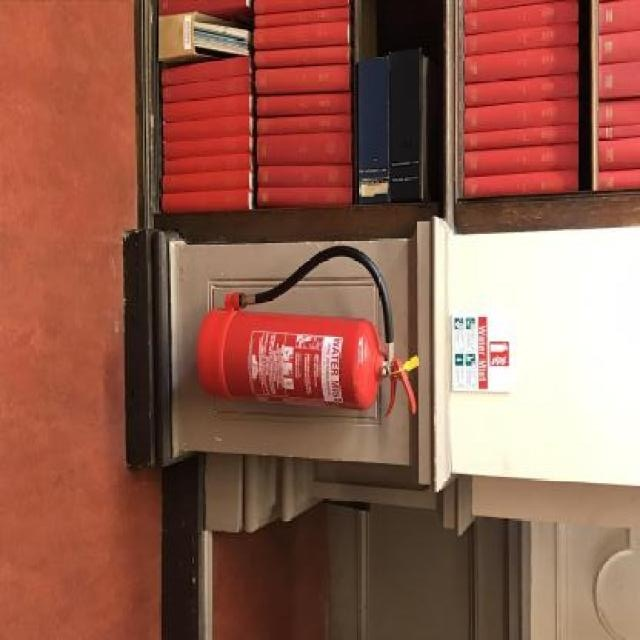fire extinguisher: (195, 245, 417, 420)
